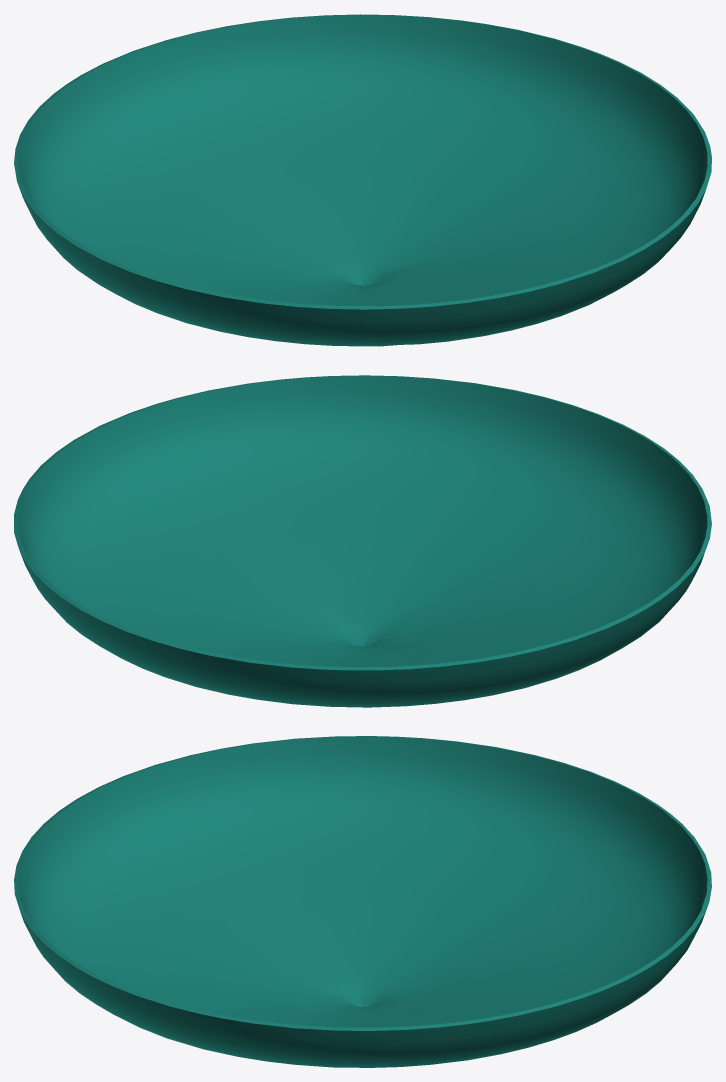
File: Teller_Test.obj
The picture shows the model from 3 angles, top to bottom: view 1: azimuth 30°, elevation 25°; view 2: azimuth 150°, elevation 25°; view 3: azimuth 270°, elevation 25°; orthographic projection.
Parts seen in each view (by area): view 1: Circle_Circle.001; view 2: Circle_Circle.001; view 3: Circle_Circle.001.
Part boxes in pixels (<box>): Circle_Circle.001: <box>14,14,711,346</box>; Circle_Circle.001: <box>14,375,711,707</box>; Circle_Circle.001: <box>14,736,711,1067</box>.
Bounding box in the file's own units: 1.49 × 0.4029 × 1.49.
